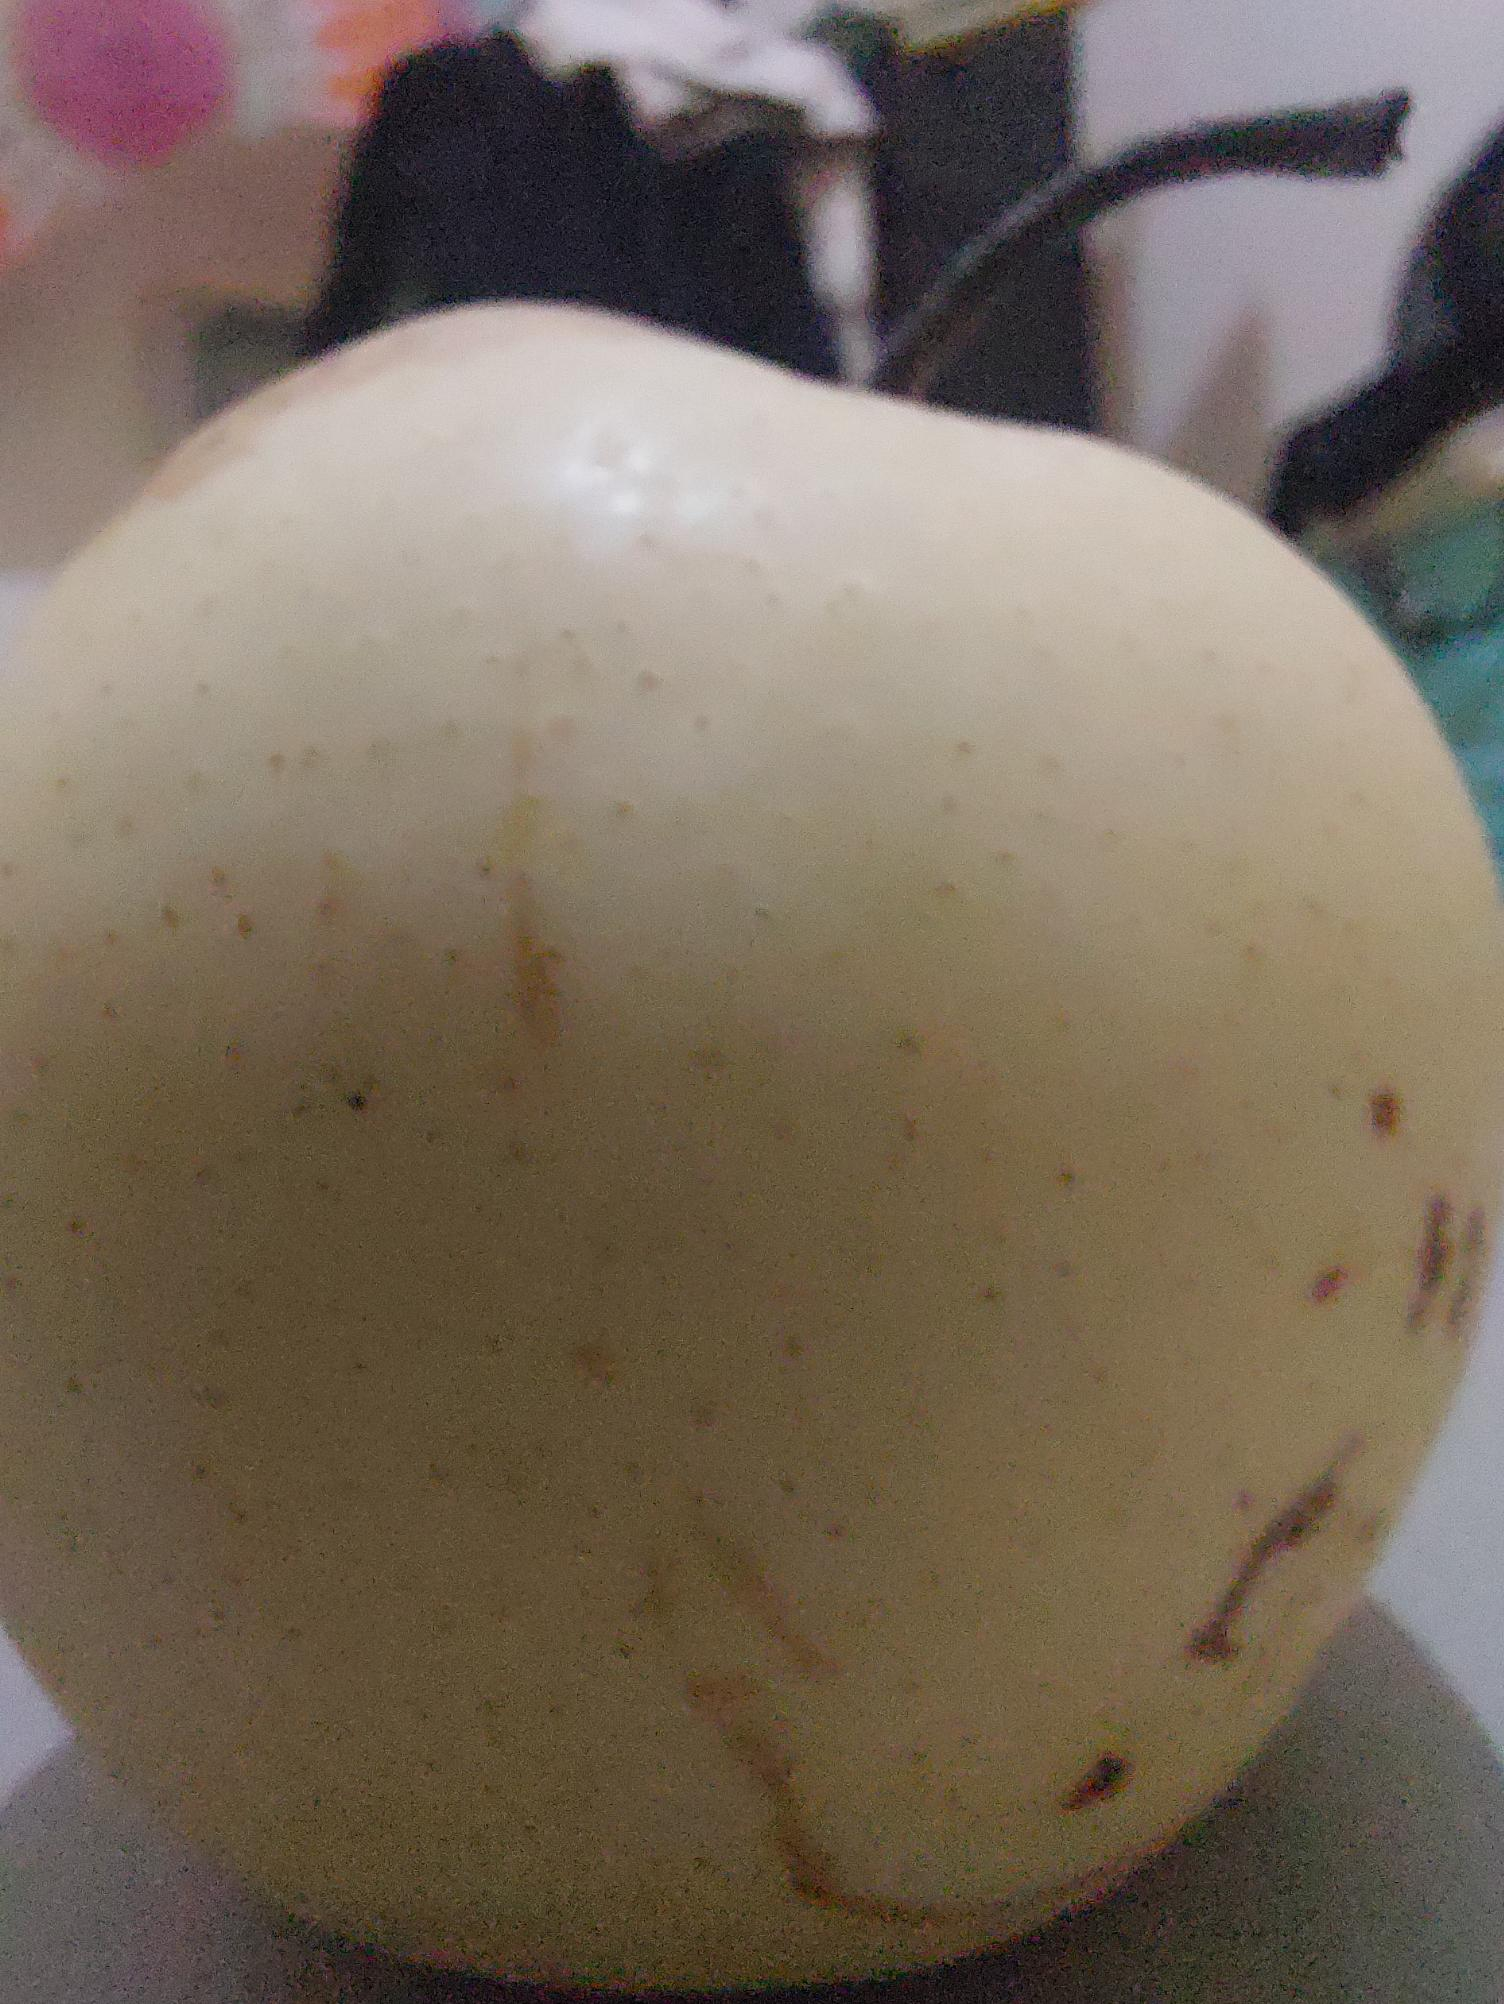Bad Pear: (0, 289, 1504, 1983)
